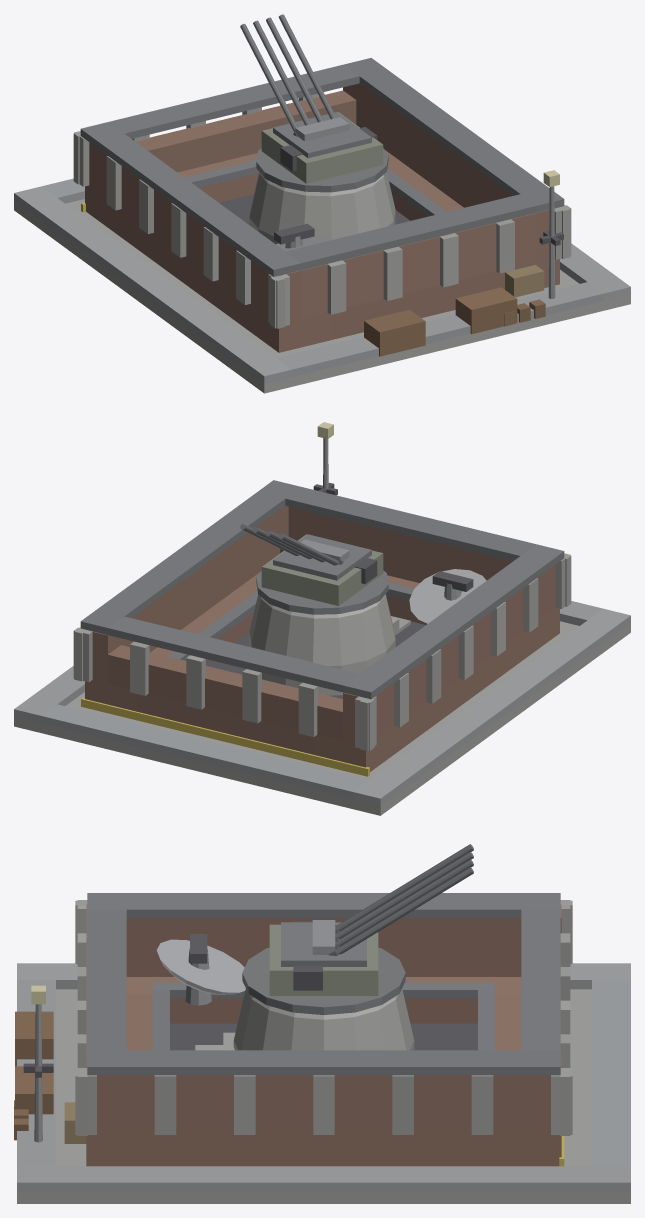
Rendered from chinese_aa.glb.
3 renders of one model, top to bottom at view 1: azimuth 30°, elevation 25°; view 2: azimuth 150°, elevation 25°; view 3: azimuth 270°, elevation 25°, orthographic. The views are drawn at different scales.
Parts seen in each view (by area): view 1: revetment, revetment_cap, apron_rim, platform, revetment_piers, apron, barbette, turret, lockers, barrel, platform_cap, mast (+3 smaller); view 2: revetment, revetment_cap, apron_rim, platform, revetment_piers, barbette, apron, turret, hazard, radar, platform_cap, barrel (+2 smaller); view 3: revetment, revetment_cap, apron_rim, platform, apron, revetment_piers, barbette, turret, barrel, platform_cap, radar, lockers (+3 smaller).
Boxes of the visible parts, x1,y1,x2,y2 form: revetment: (89,83,549,321); revetment_cap: (80,58,564,276); apron_rim: (14,178,630,383); platform: (85,150,559,352); revetment_piers: (73,93,571,328); apron: (14,199,630,393); barbette: (249,148,395,244); turret: (261,112,383,183); lockers: (364,287,545,356); barrel: (240,14,336,136); platform_cap: (184,160,446,216); mast: (539,170,563,298); revetment: (92,505,555,743); revetment_cap: (80,480,564,699); apron_rim: (14,601,630,806); platform: (85,572,559,771); revetment_piers: (73,553,571,750); barbette: (249,570,395,695); apron: (14,621,630,815); turret: (261,534,383,605); hazard: (81,697,369,776); radar: (409,569,486,623); platform_cap: (168,582,414,660); barrel: (240,524,343,565); revetment: (86,904,561,1131); revetment_cap: (87,893,560,1075); apron_rim: (17,963,630,1192); platform: (86,977,561,1166); apron: (17,989,630,1203); revetment_piers: (75,900,572,1135); barbette: (233,947,414,1050); turret: (269,920,378,995); barrel: (328,844,473,955); platform_cap: (152,982,495,1050); radar: (156,934,245,1005); lockers: (14,1011,53,1140).
Size of the model in its own units: 12 by 6.08 by 14.27.
